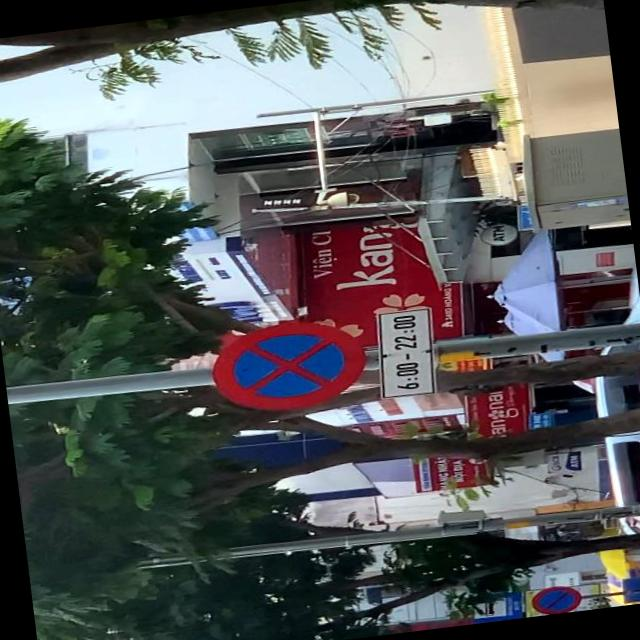P-130: (208, 312, 372, 414)
